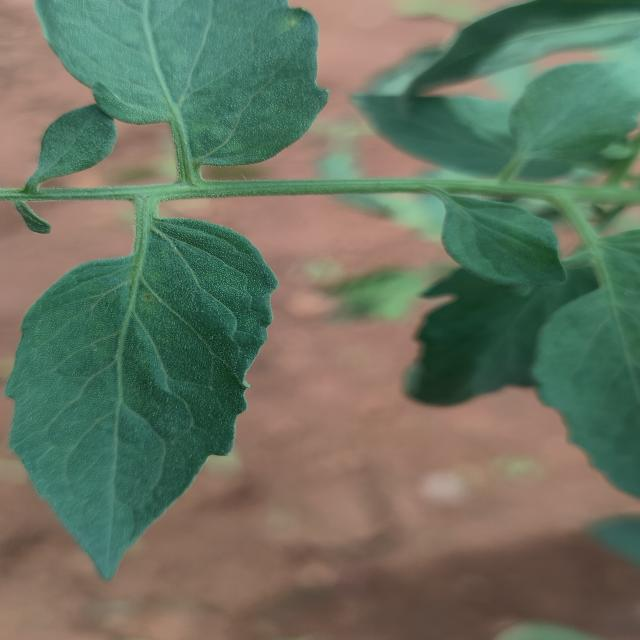tomato_healthy: (3, 208, 279, 579), (443, 194, 569, 293)
